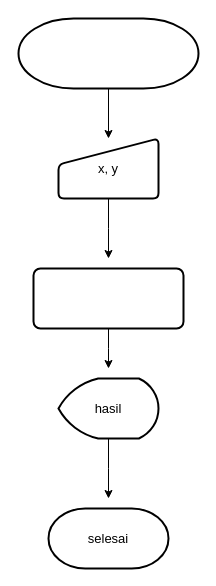
Some shapes in this 216 by 586 pixel diagram are drawn without their labels. The centre of each missing label's shape, as x and y in pixels:
"hasil = x + y" belongs at point (108, 298).
"nilai" belongs at point (108, 53).
